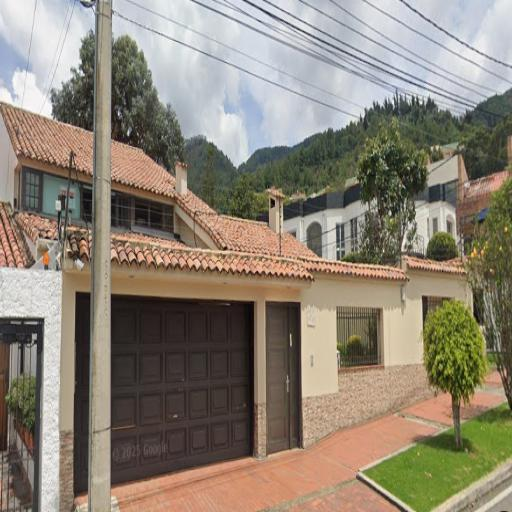Casa: (0, 99, 474, 506)
postes: (88, 0, 118, 512)
